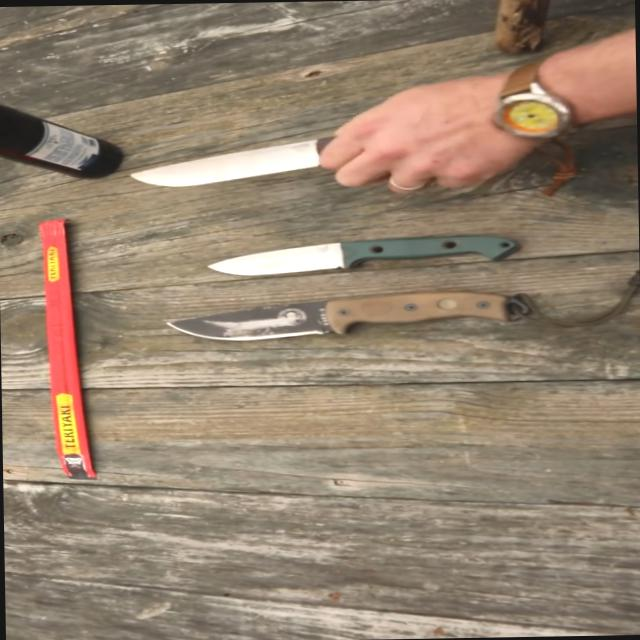knife: (112, 91, 484, 206), (146, 290, 361, 348), (192, 235, 360, 283)
